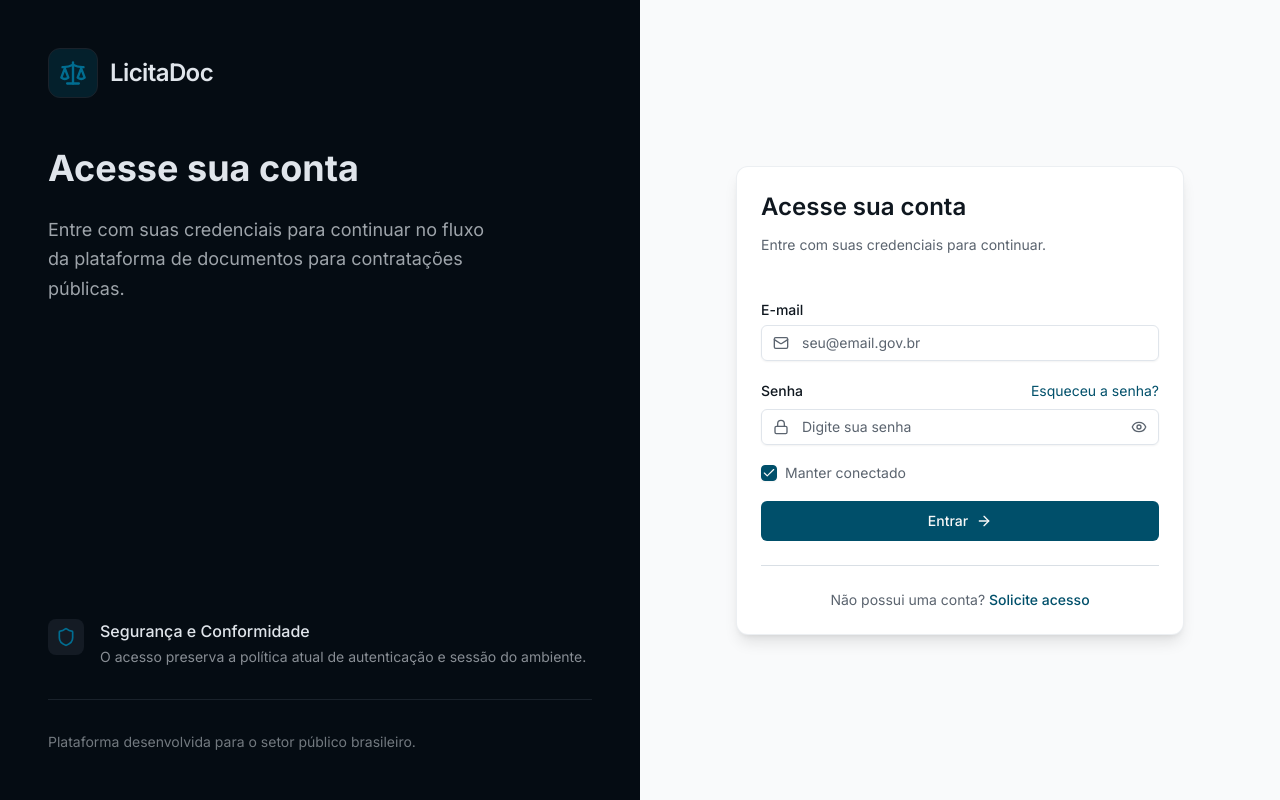
appRoutes › renders the app shell after signing in from a preserved app redirect
Expected: the heading "Acesse sua conta" is shown, x1=48 y1=146 x2=359 y2=190
Type "maria@licitadoc.test" into the field labelled "E-mail". click: (960, 342)
box: x1=761 y1=324 x2=1159 y2=360
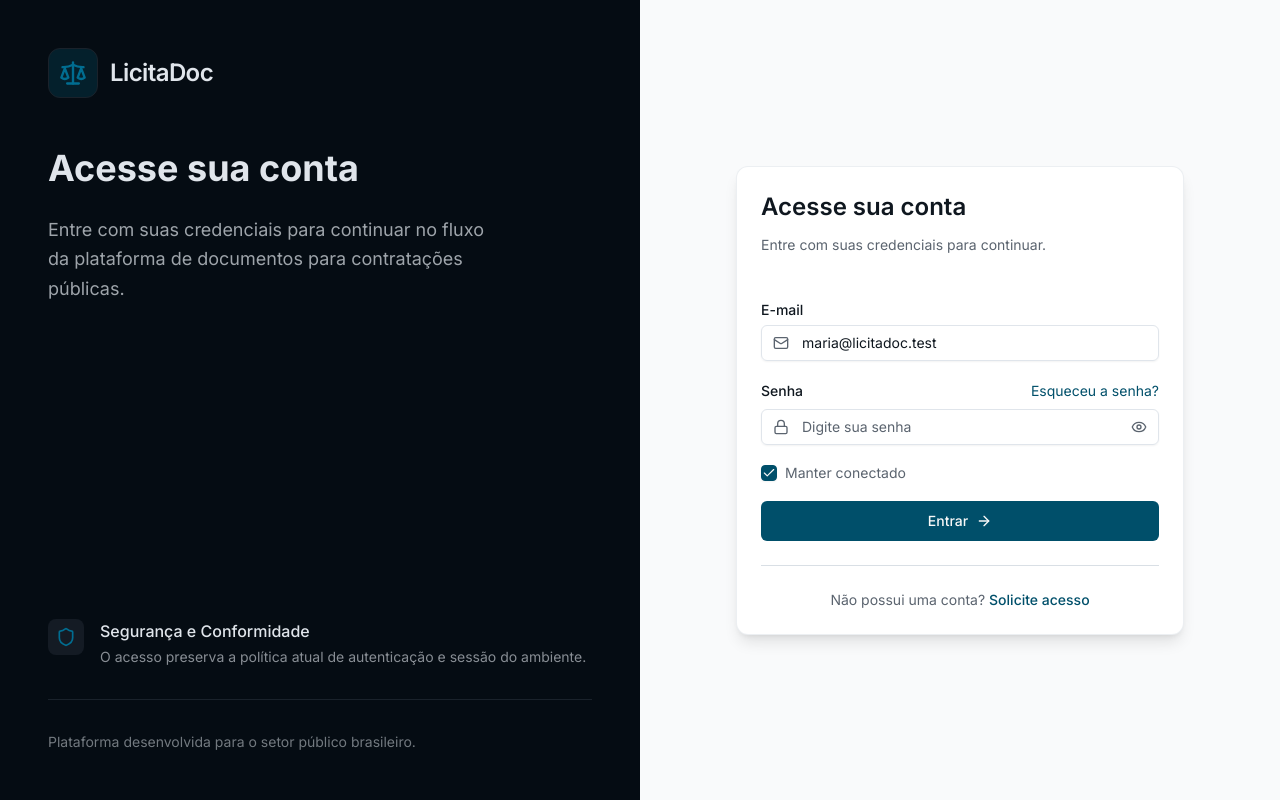
Type "senha-segura" into the password field labelled "Senha". click: (960, 426)
box: x1=761 y1=408 x2=1159 y2=444
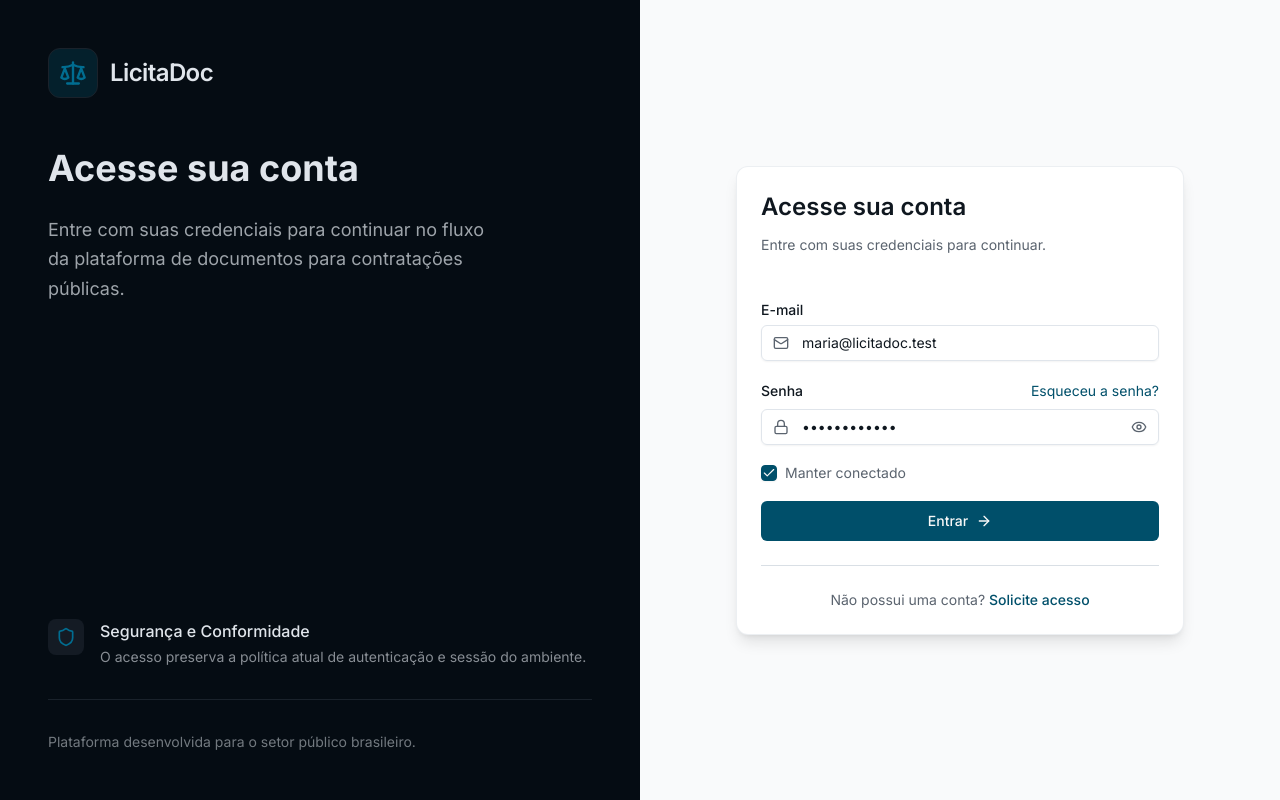
Click the button "Entrar". click: (960, 520)
box: x1=761 y1=500 x2=1159 y2=540
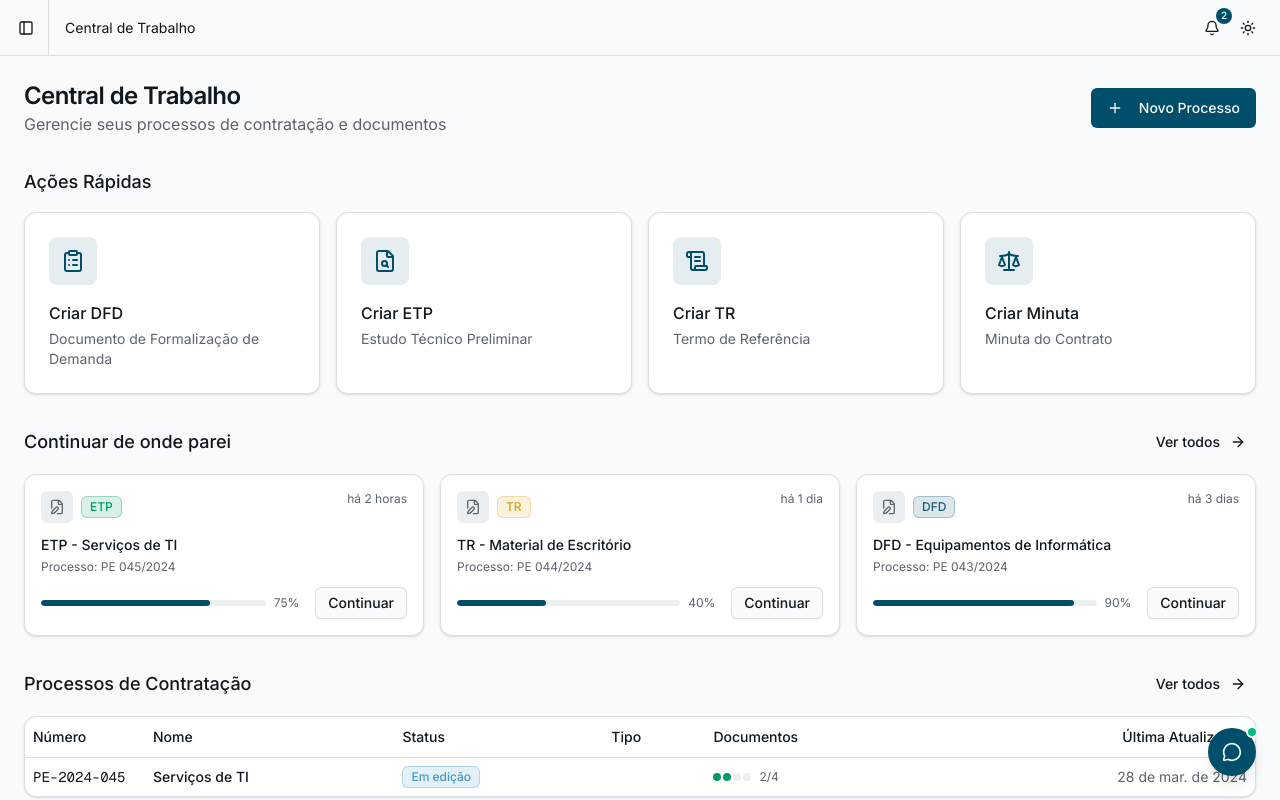
Now the heading "Central de Trabalho" is shown, box x1=24 y1=81 x2=240 y2=110
